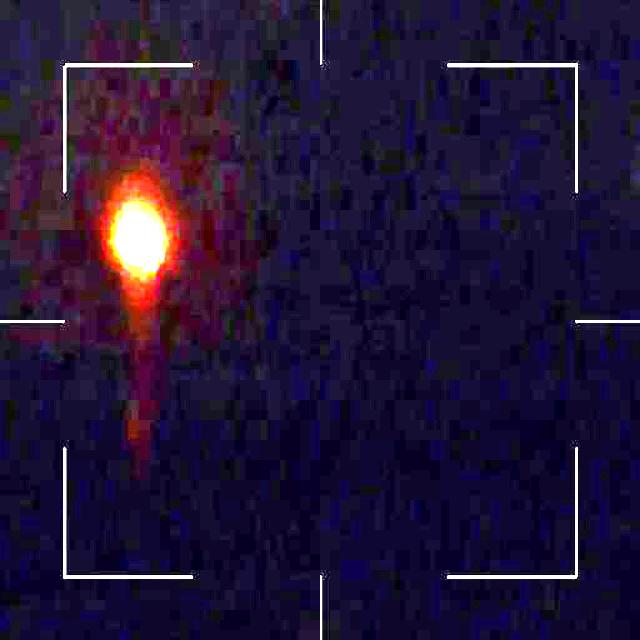bird: (110, 196, 168, 272)
